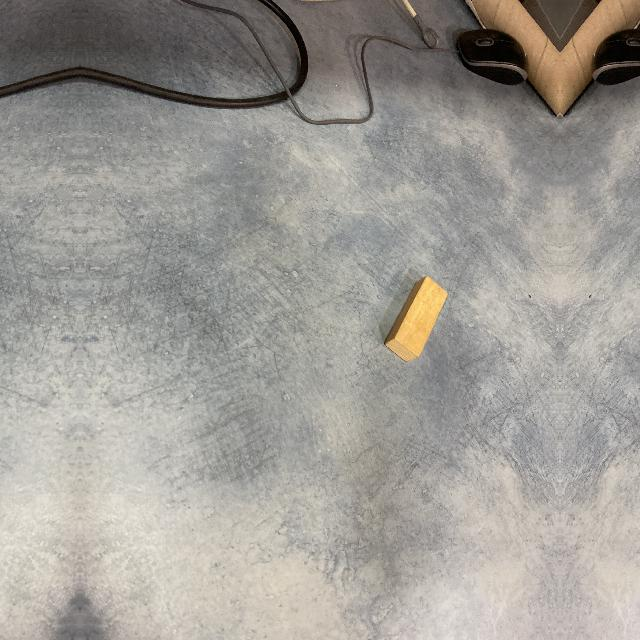jenga: (384, 278, 447, 364)
